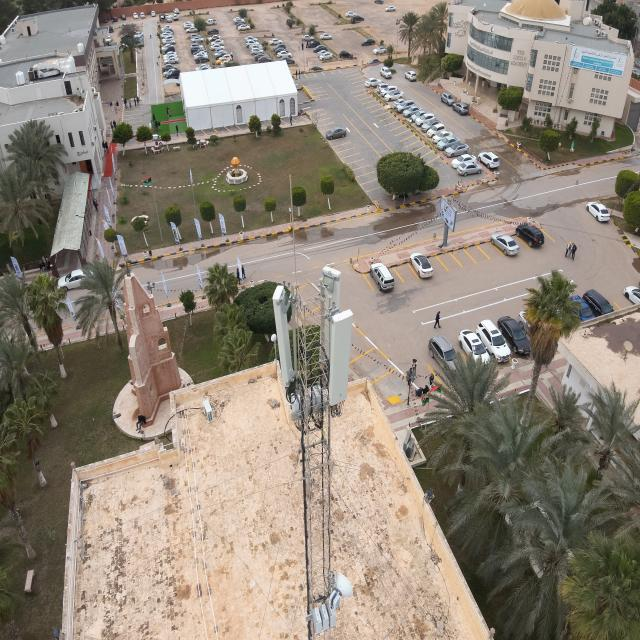antenna: (327, 308, 353, 408), (272, 284, 296, 388), (322, 264, 340, 362)
lighnig-rad: (288, 172, 300, 290)
microware-dish: (329, 574, 354, 609)
power-box: (310, 602, 337, 634)
radio-unit: (289, 383, 327, 420)
